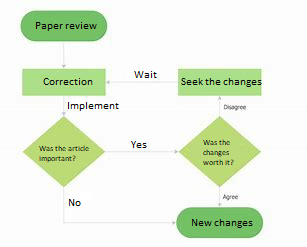arrow: (60, 183, 176, 224), (104, 79, 177, 84), (104, 148, 177, 153), (59, 41, 66, 68), (215, 95, 223, 114), (59, 96, 66, 115), (216, 184, 222, 206)
decision: (21, 114, 106, 187), (176, 113, 261, 185)
process: (175, 67, 263, 96), (21, 67, 106, 96)
terminator: (174, 205, 264, 240), (18, 9, 107, 42)
text: (37, 143, 89, 162), (201, 136, 234, 165), (179, 76, 262, 87), (33, 19, 97, 32), (190, 216, 255, 228), (66, 100, 120, 112), (42, 76, 94, 87), (130, 69, 158, 78), (222, 102, 247, 110), (130, 138, 148, 149), (66, 197, 80, 207), (220, 193, 238, 200)
